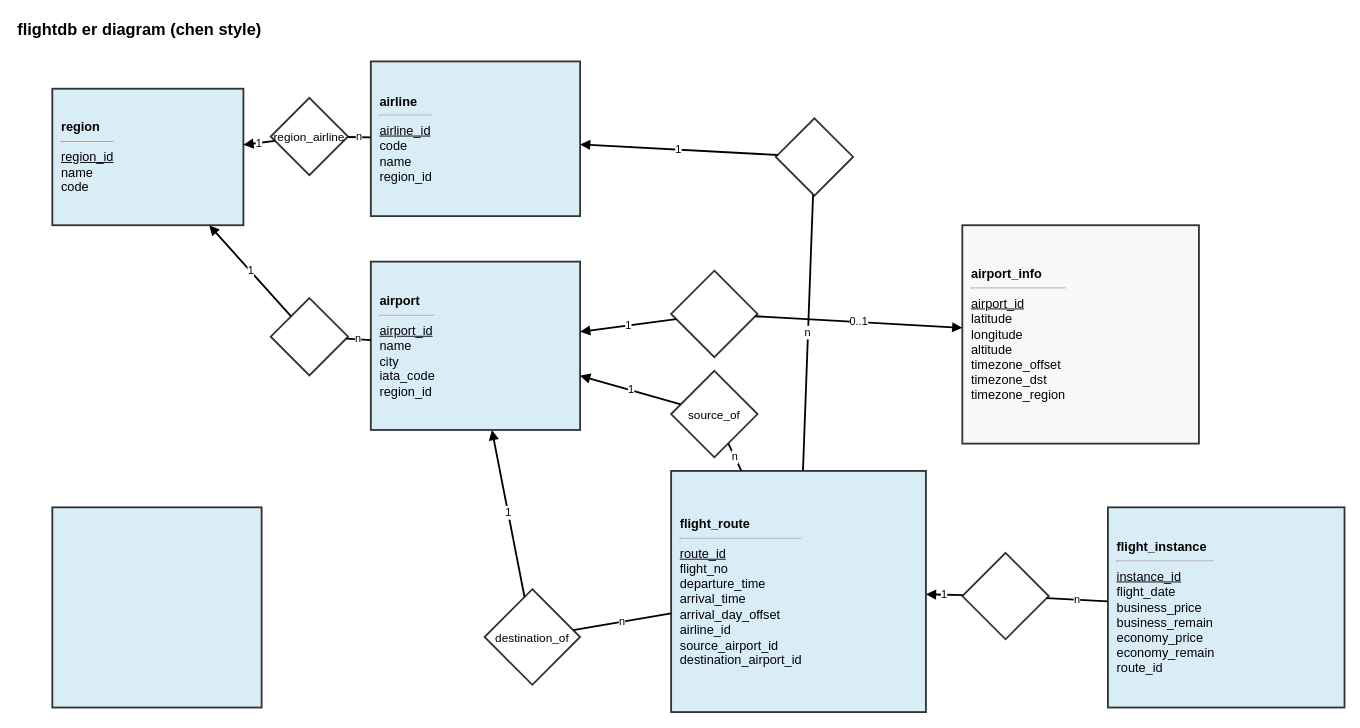
Image size: 1360x728. Some labels were removed from this diagram. Here are the shapes that lost their labels. From the top down, the box of each, then its label:
(774, 117, 854, 196): operates
(670, 269, 758, 358): has_detail
(269, 297, 349, 376): region_airport
(51, 506, 262, 708): passenger passenger_id first_name last_name age gender mobile_number
(961, 551, 1049, 640): has_instance
